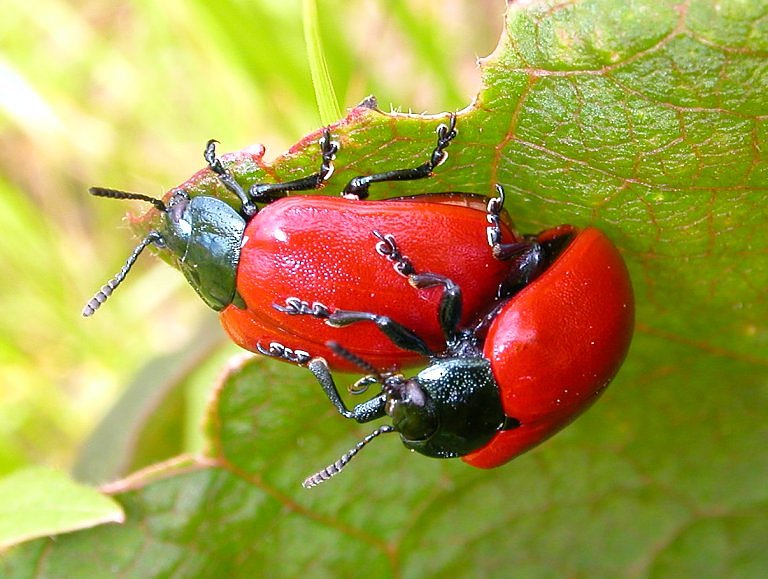Chrysomela_populi: (79, 97, 530, 388), (265, 183, 653, 501)
